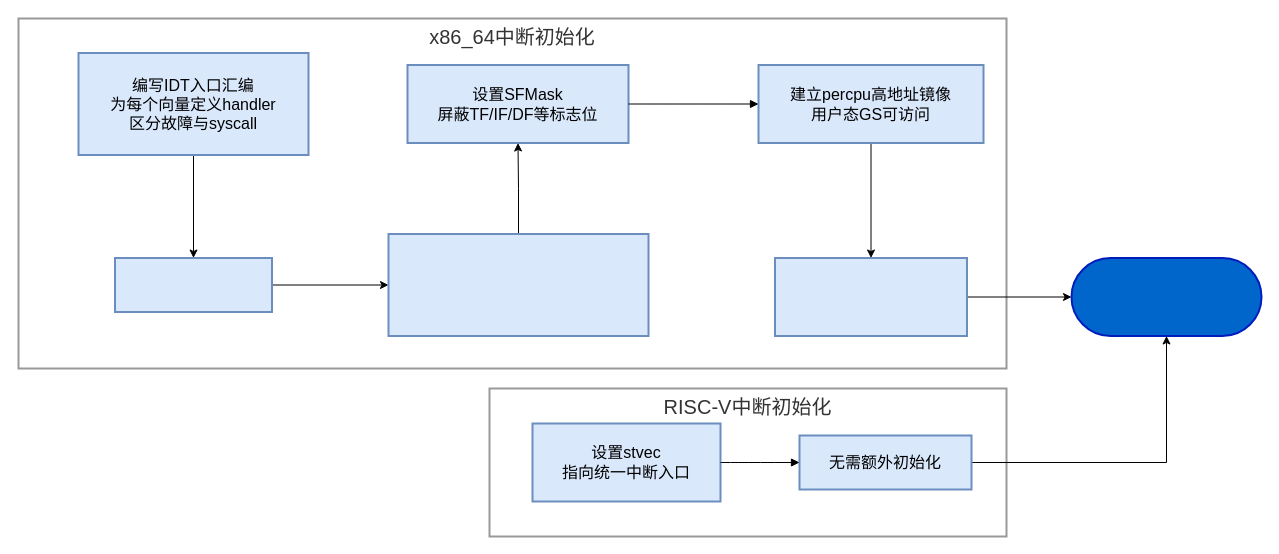
Some shapes in this 1279 by 554 pixel diagram are drawn without their labels. The box of each missing label's shape, as (x1, y1, x2, y2) in pixels:
中断系统就绪 中断时调用Rust分发函数: (1070, 256, 1262, 336)
加载IDT (lidt): (114, 256, 272, 312)
置EFER.SCE 启用syscall/sysret: (774, 256, 968, 336)
配置LSTAR MSR 指向trampoline内syscall_entry: (387, 232, 649, 336)
